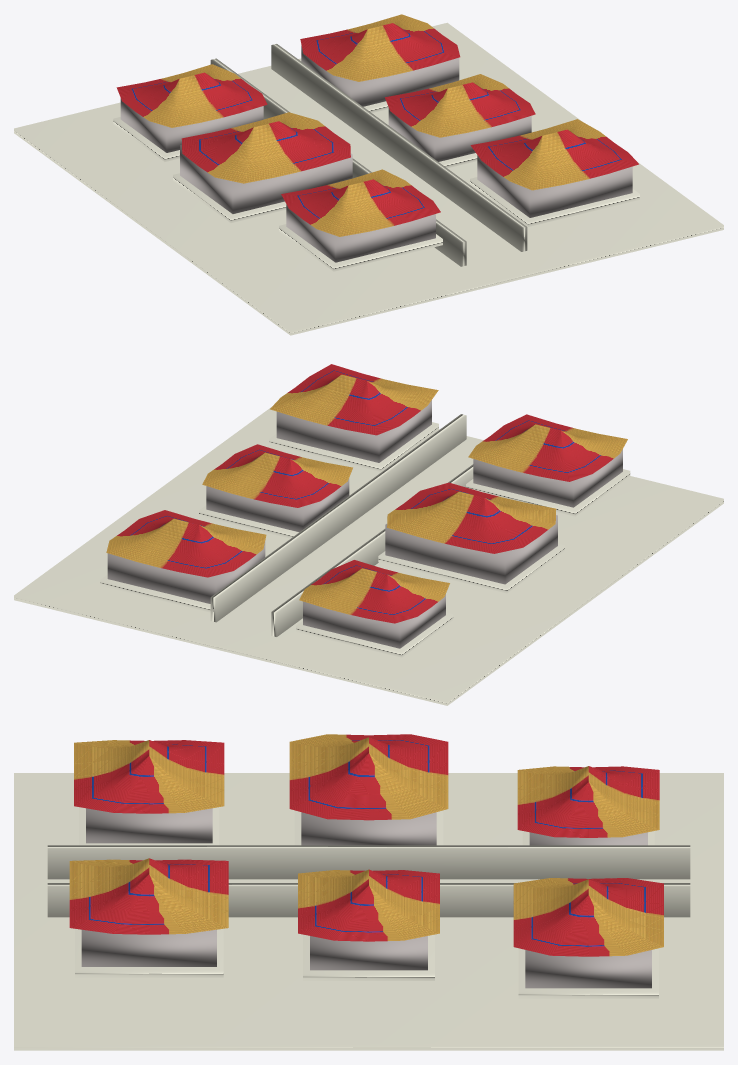
The picture shows the model from 3 angles, top to bottom: view 1: azimuth 30°, elevation 25°; view 2: azimuth 150°, elevation 25°; view 3: azimuth 270°, elevation 25°; orthographic projection. The views are drawn at different scales.
Parts seen in each view (by area): view 1: gyedong_ground_lod2, hanok_roofs_lod2, hanok_buildings_lod2, sagoseok_walls_lod2; view 2: gyedong_ground_lod2, hanok_roofs_lod2, hanok_buildings_lod2, sagoseok_walls_lod2; view 3: gyedong_ground_lod2, hanok_roofs_lod2, hanok_buildings_lod2, sagoseok_walls_lod2.
Part boxes in pixels (x1,y1,x2,y2): gyedong_ground_lod2: (14,22,723,335); hanok_roofs_lod2: (116,14,638,236); hanok_buildings_lod2: (113,45,639,271); sagoseok_walls_lod2: (210,44,527,266); gyedong_ground_lod2: (14,407,723,705); hanok_roofs_lod2: (106,364,627,623); hanok_buildings_lod2: (100,400,630,657); sagoseok_walls_lod2: (210,414,473,636); gyedong_ground_lod2: (14,773,723,1050); hanok_roofs_lod2: (69,734,663,956); hanok_buildings_lod2: (75,807,658,998); sagoseok_walls_lod2: (47,845,690,917).
Bounding box in the file's own units: 38 × 7.3 × 42.
Materials: 3 (3 with a texture image).
